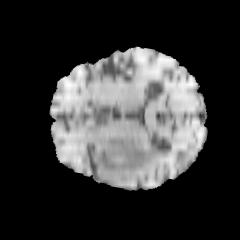glioma: (96, 135, 163, 181)
